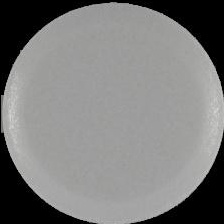70786-2115: (0, 0, 224, 224)
